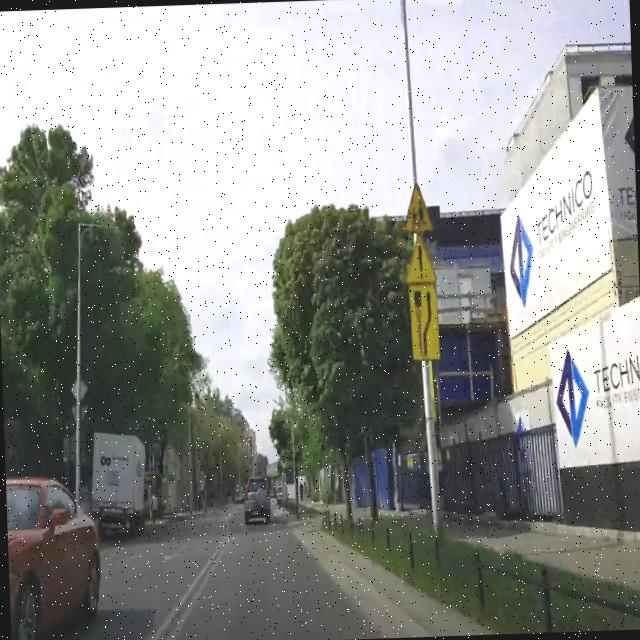Dzieci: (404, 184, 434, 232)
